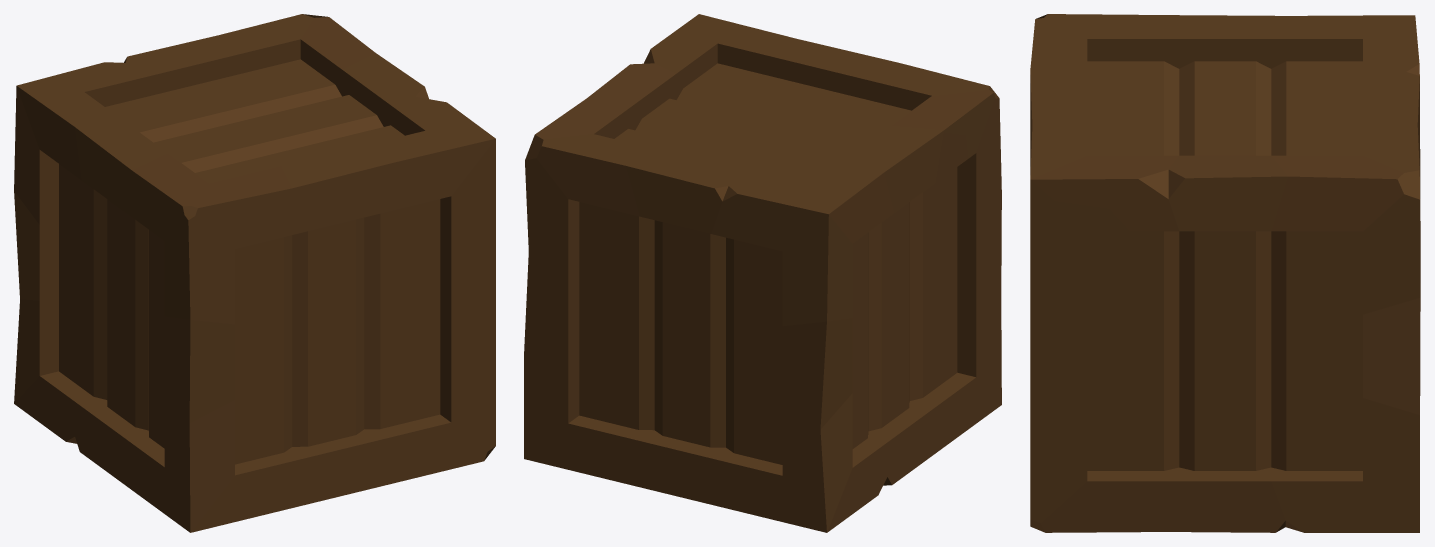
File: caja.fbx
3 renders of one model, left to right at view 1: azimuth 30°, elevation 25°; view 2: azimuth 150°, elevation 25°; view 3: azimuth 270°, elevation 25°, orthographic. The views are drawn at different scales.
Visible parts, largest first — view 1: crate; view 2: crate; view 3: crate.
Part boxes in pixels (box(x1,y1,x2,y2)): crate: box(14, 14, 495, 532); crate: box(524, 14, 1001, 532); crate: box(1030, 14, 1420, 532).
Size of the model in its own units: 120 by 120 by 120.
